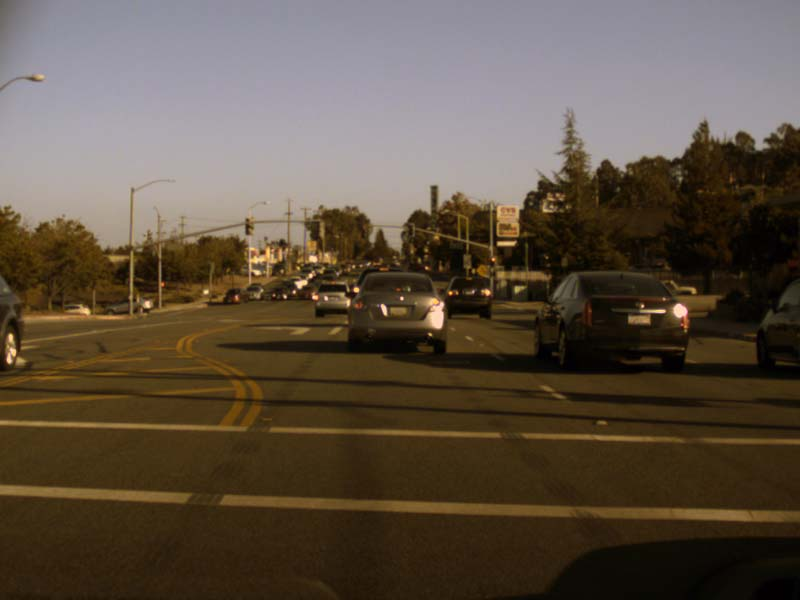Red: (490, 258, 494, 266)
